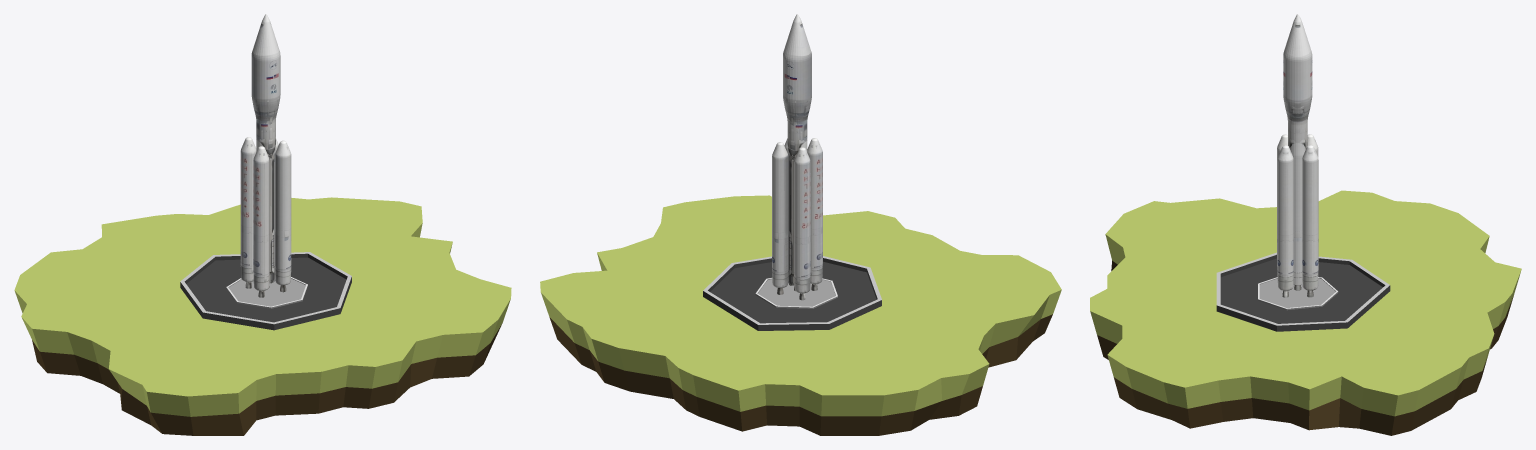
The model's file is Angara-A5.gltf.
3 renders of one model, left to right at view 1: azimuth 30°, elevation 25°; view 2: azimuth 150°, elevation 25°; view 3: azimuth 270°, elevation 25°, orthographic.
Visible parts, largest first — view 1: Cylinder.003, Cylinder.001, Cylinder.002, Cylinder.004, Cylinder.006; view 2: Cylinder.003, Cylinder.001, Cylinder.006, Cylinder.005, Cylinder.002; view 3: Cylinder.003, Cylinder.001, Cylinder.004, Cylinder.005.
Boxes of the visible parts, x1,y1,x2,y2 form: Cylinder.003: (14, 197, 511, 435); Cylinder.001: (251, 14, 280, 287); Cylinder.002: (253, 146, 269, 297); Cylinder.004: (275, 140, 291, 292); Cylinder.006: (240, 137, 256, 288); Cylinder.003: (540, 195, 1061, 435); Cylinder.001: (783, 14, 811, 290); Cylinder.006: (794, 147, 810, 300); Cylinder.005: (772, 142, 788, 294); Cylinder.002: (807, 138, 822, 290); Cylinder.003: (1090, 190, 1521, 435); Cylinder.001: (1283, 14, 1312, 290); Cylinder.004: (1277, 145, 1293, 297); Cylinder.005: (1302, 145, 1318, 297).
Size of the model in its own units: 8.06 by 6.01 by 7.18.
9 materials, 1 textured.
